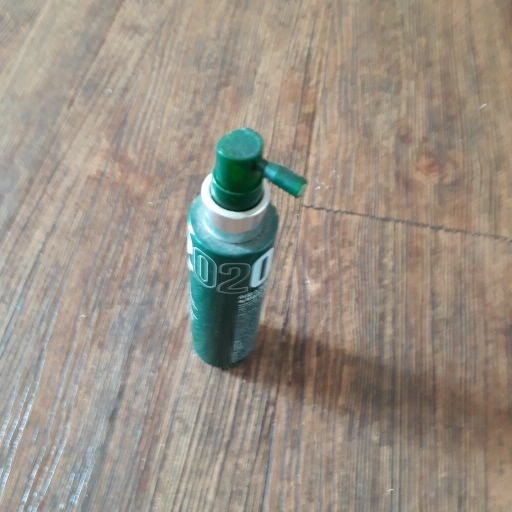Plastic_3: (184, 127, 309, 367)
